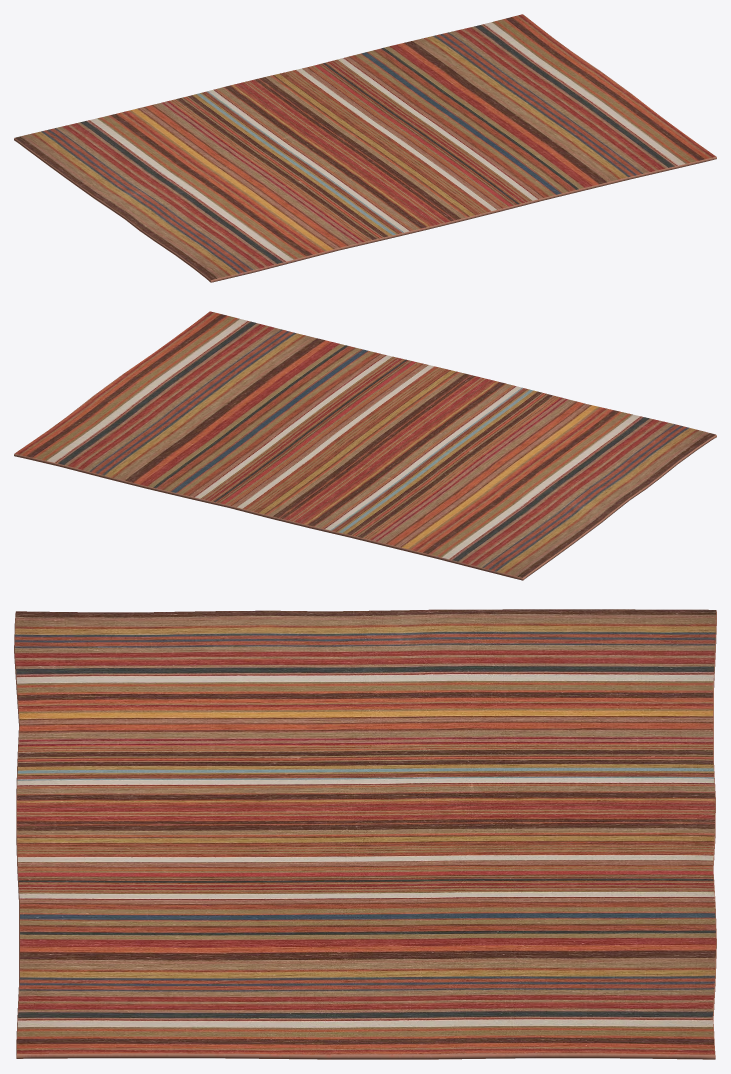
Rendered from abo-B0735T9WPM.glb.
3 renders of one model, top to bottom at view 1: azimuth 30°, elevation 25°; view 2: azimuth 150°, elevation 25°; view 3: azimuth 270°, elevation 25°, orthographic. The views are drawn at different scales.
Size of the model in its own units: 1.83 by 0.01 by 1.22.
1 material, 1 textured.
